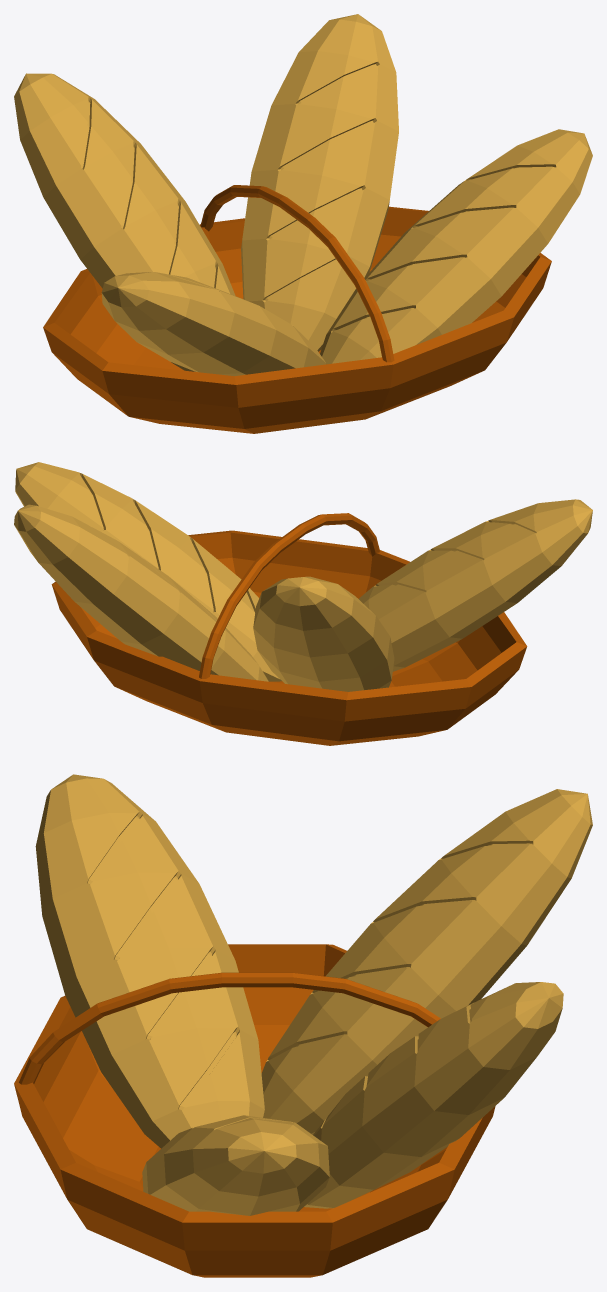
Rendered from CestaBaguete.fbx.
3 views of the same model, one above another, from view 1: azimuth 30°, elevation 25°; view 2: azimuth 150°, elevation 25°; view 3: azimuth 270°, elevation 25° (orthographic). The views are drawn at different scales.
Visible parts, largest first — view 1: Cesta.Baguete, Cesta; view 2: Cesta.Baguete, Cesta; view 3: Cesta.Baguete, Cesta.
Part boxes in pixels (x1,y1,x2,y2): Cesta.Baguete: (14,14,592,376); Cesta: (43,185,551,433); Cesta.Baguete: (14,462,592,691); Cesta: (51,513,527,745); Cesta.Baguete: (35,774,592,1215); Cesta: (14,944,495,1277).
Bounding box in the file's own units: 84.96 × 38.19 × 61.72.
Materials: 1 (1 with a texture image).
